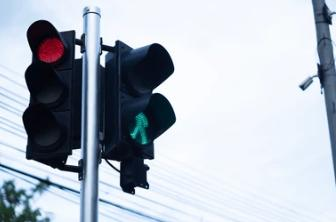red_light: (22, 20, 76, 161)
